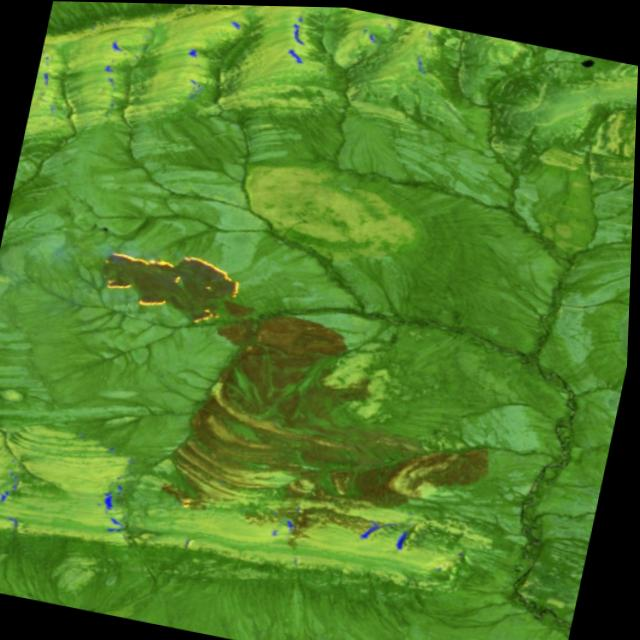fire: (87, 236, 250, 335)
